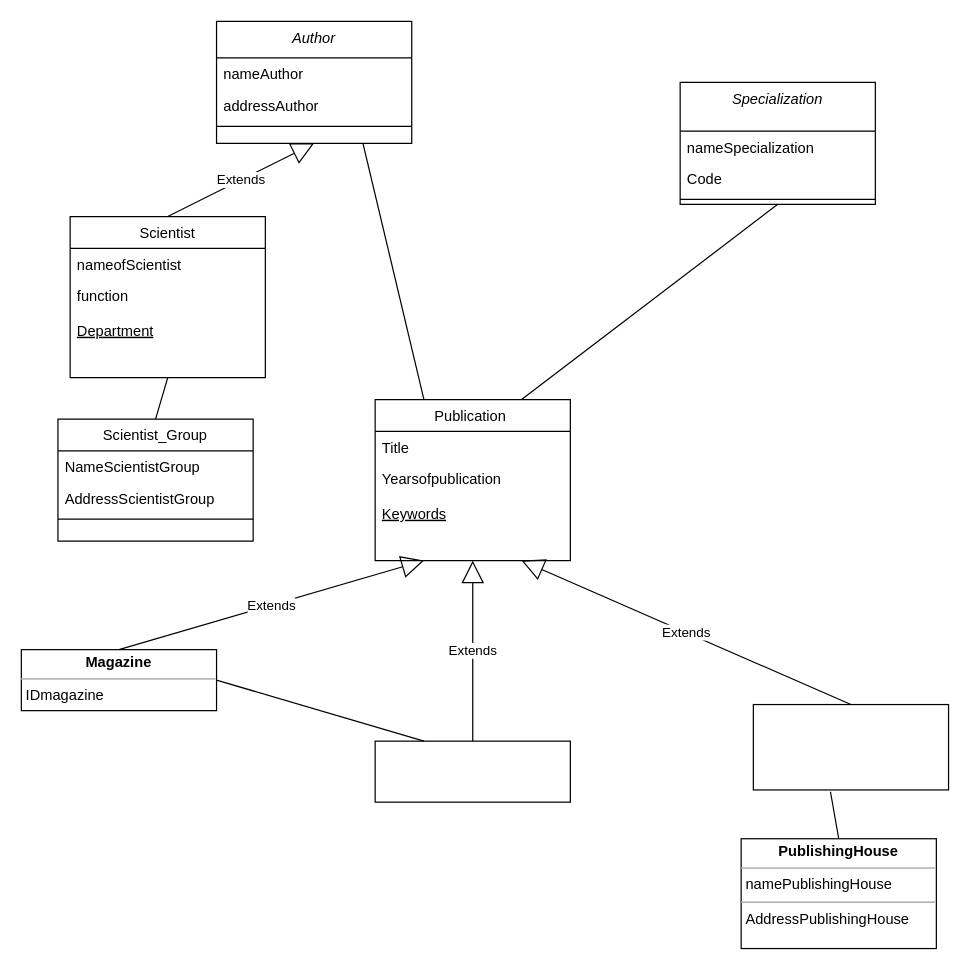
Some shapes in this 970 by 970 pixel diagram are drawn without their labels. Here are the shapes that lost their labels. From the top down, the box of each, then its label:
(752, 703, 949, 790): Book + ISBN: String
(374, 740, 570, 802): Article IDarticle
